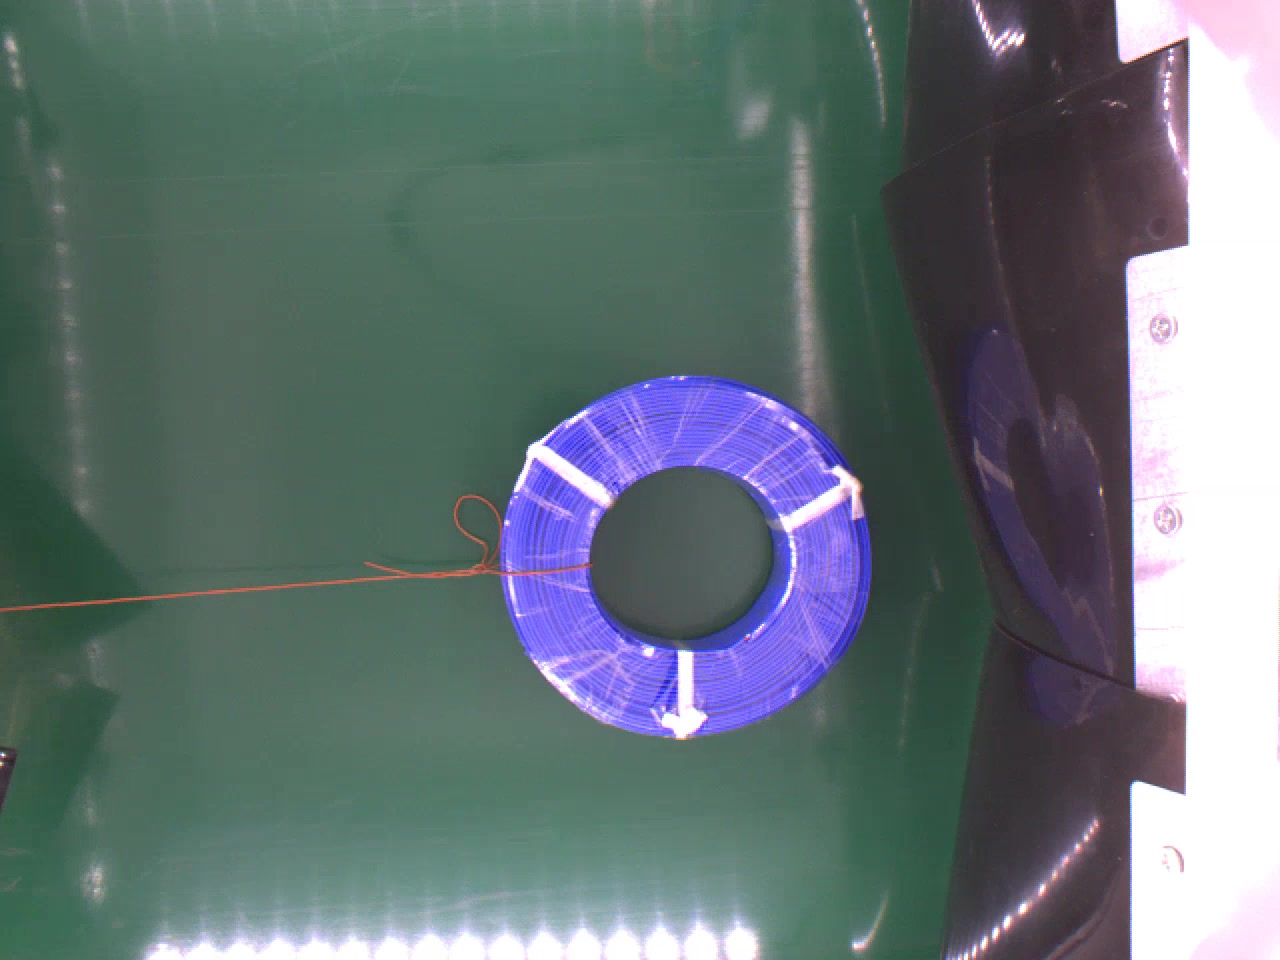blue: (501, 371, 879, 730)
